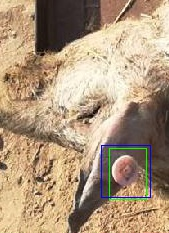text: (109, 148, 146, 199)
